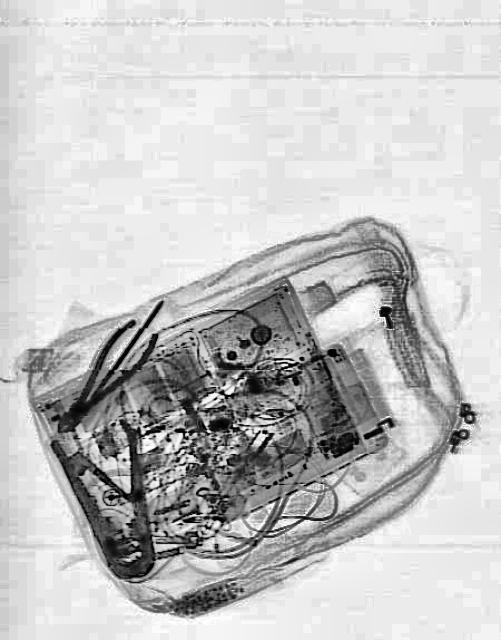Pliers: (48, 403, 176, 592), (40, 305, 164, 447)
